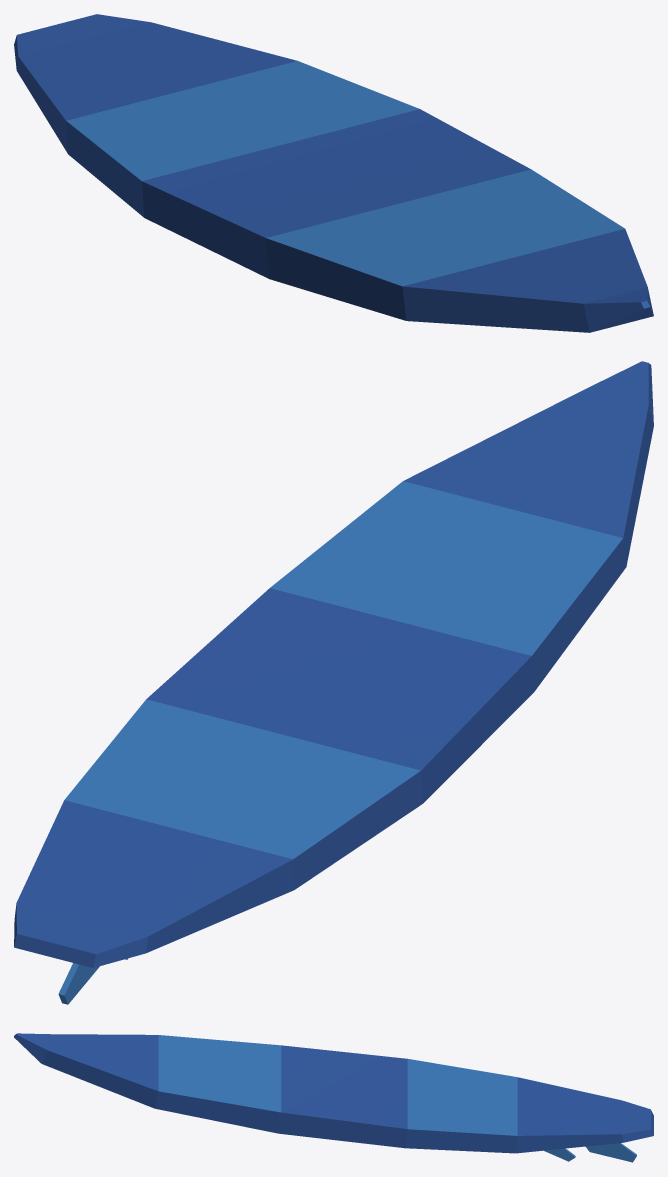
File: Beachgoer_M_SurfBoard.fbx
3 views of the same model, one above another, from view 1: azimuth 30°, elevation 25°; view 2: azimuth 150°, elevation 25°; view 3: azimuth 270°, elevation 25° (orthographic). The views are drawn at different scales.
Visible parts, largest first — view 1: Beachgoer_M_SurfBoard; view 2: Beachgoer_M_SurfBoard; view 3: Beachgoer_M_SurfBoard.
Part boxes in pixels (bbox=[...]): Beachgoer_M_SurfBoard: bbox=[14, 14, 653, 332]; Beachgoer_M_SurfBoard: bbox=[14, 361, 653, 1004]; Beachgoer_M_SurfBoard: bbox=[14, 1033, 653, 1162].
Bounding box in the file's own units: 32.44 × 25.83 × 120.
